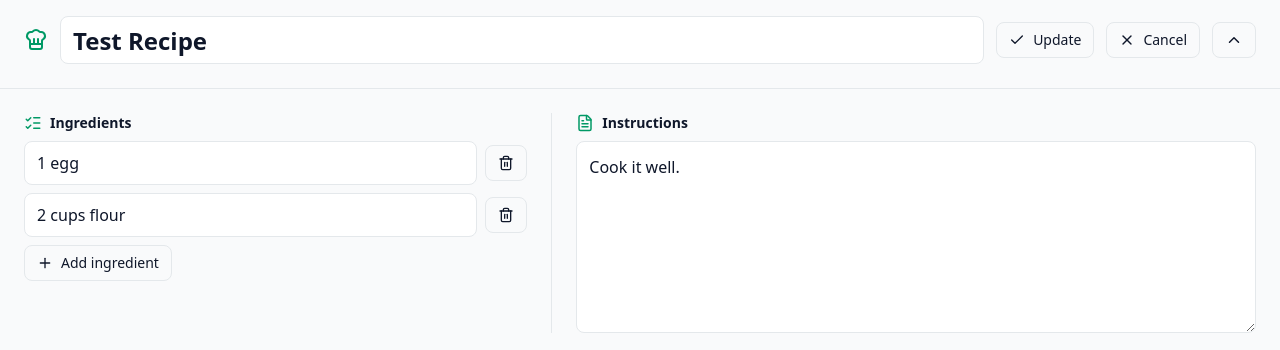
Test: RecipeCardEditor › removes an ingredient row when Remove ingredient is clicked
The image size is (1280, 350).
Click the 1st button named "Remove ingredient" at point(506, 163), box [485,145,527,181]
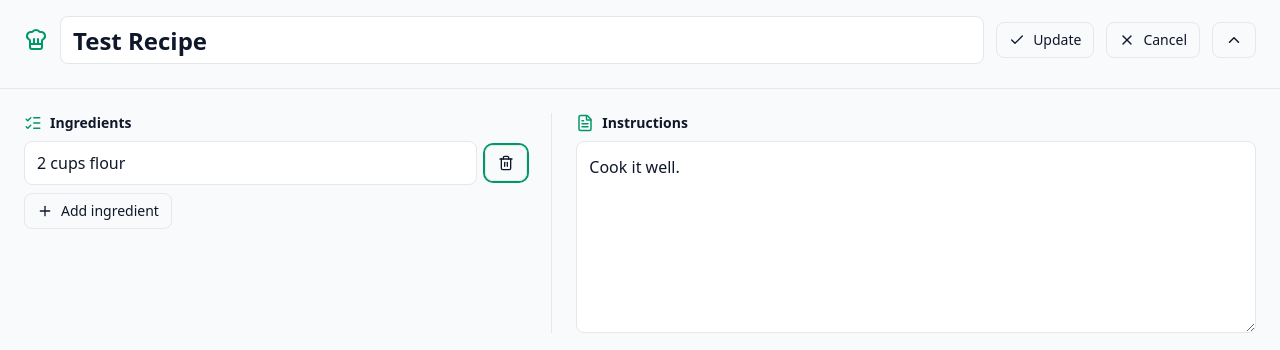
Expected: the number of fields named "Ingredient 1" is 1, [24,141,477,185]
Expected: the field named "Ingredient 1" holds "2 cups flour", [24,141,477,185]
